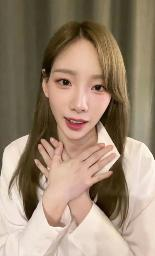face: (52, 48, 110, 138)
